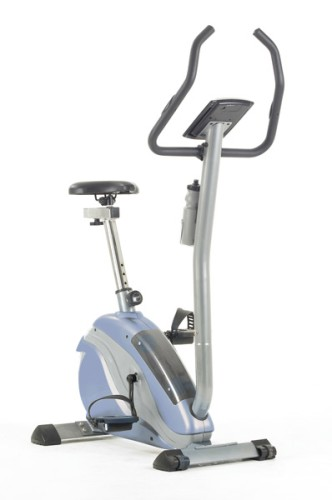gym_bike: (35, 27, 289, 473)
